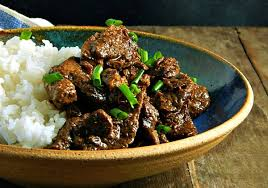rendang: (41, 10, 230, 158)
